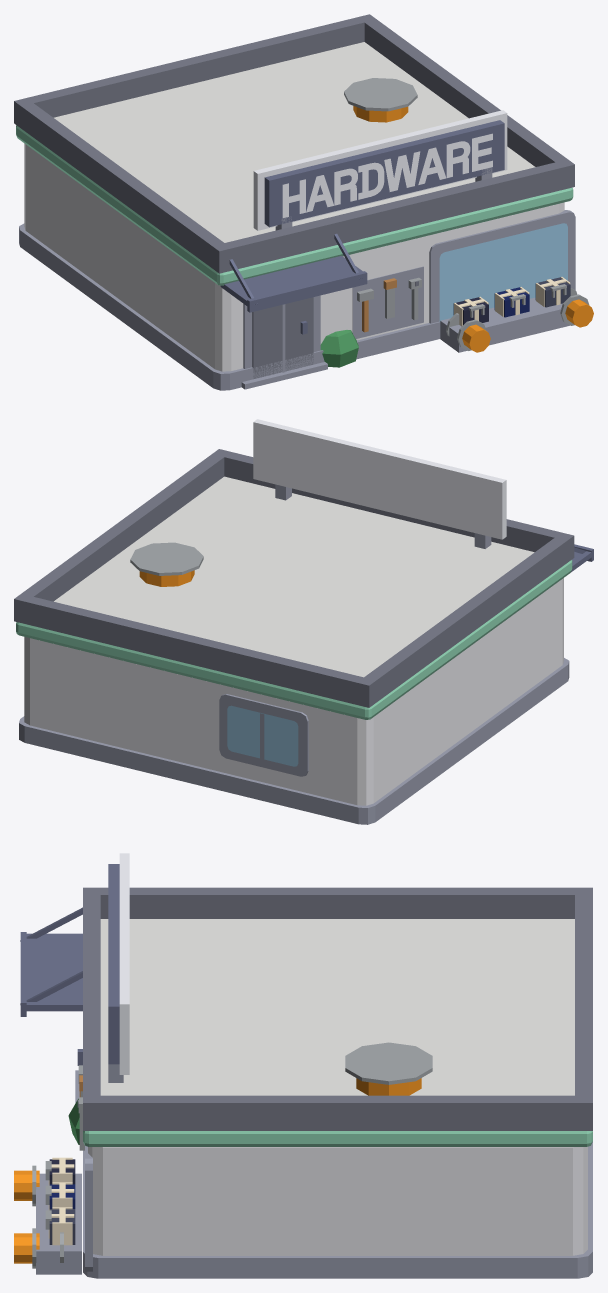
Rendered from shop-equipment-1x1-t1-tone-a.glb.
3 renders of one model, top to bottom at view 1: azimuth 30°, elevation 25°; view 2: azimuth 150°, elevation 25°; view 3: azimuth 270°, elevation 25°, orthographic. The views are drawn at different scales.
Parts seen in each view (by area): view 1: shop-equipment-1x1-t1-tone-a; view 2: shop-equipment-1x1-t1-tone-a; view 3: shop-equipment-1x1-t1-tone-a.
Boxes of the visible parts, bbox=[...] form: shop-equipment-1x1-t1-tone-a: bbox=[14, 14, 593, 390]; shop-equipment-1x1-t1-tone-a: bbox=[14, 419, 593, 824]; shop-equipment-1x1-t1-tone-a: bbox=[14, 853, 592, 1278].
Size of the model in its own units: 1 by 0.524 by 1.14.
1 material, 1 textured.
